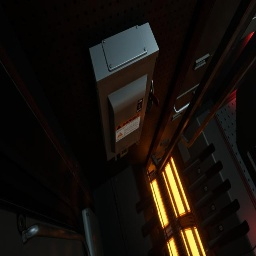EmergencyPhone ,: (112, 147, 129, 163)
SafetySwitchPanel ,: (89, 22, 159, 161)
